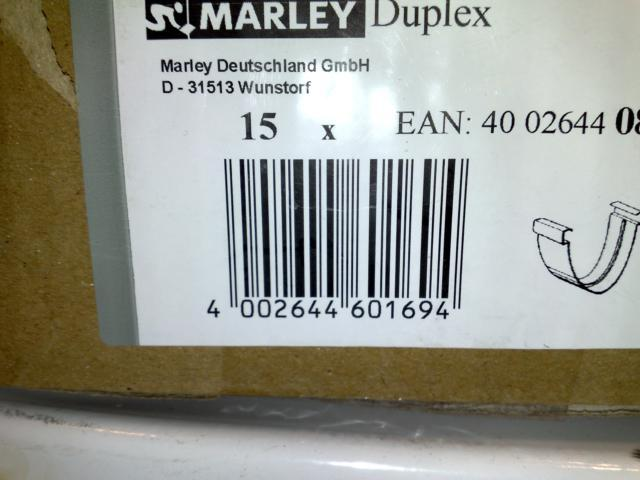Barcode: (184, 148, 499, 337)
